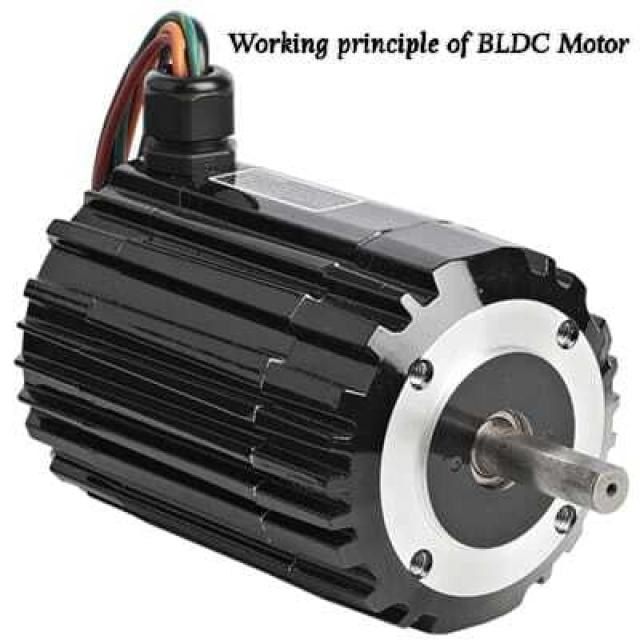motor: (15, 19, 633, 638)
